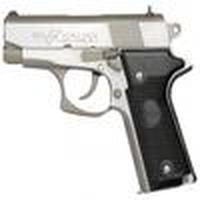gun: (4, 6, 195, 190)
